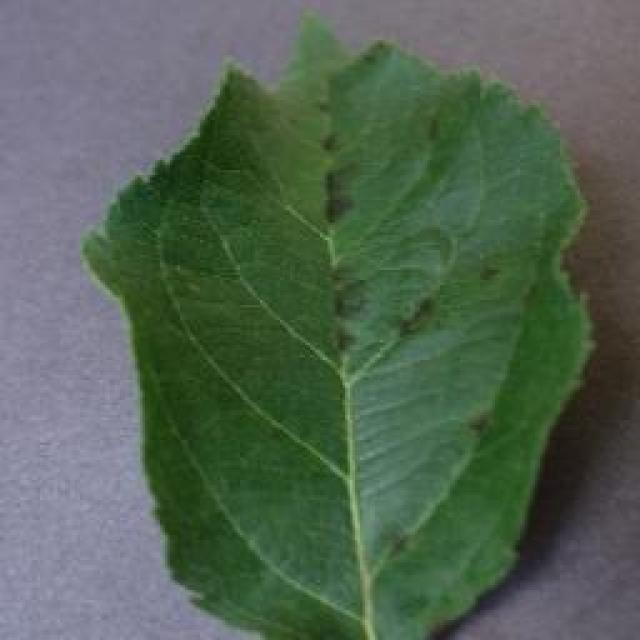apple scab disease: (78, 12, 598, 638)
